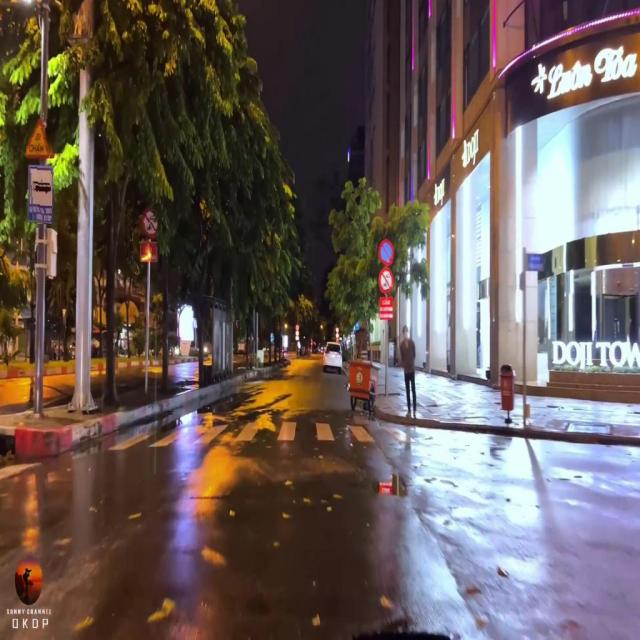cam_do_xe: (378, 237, 395, 266)
cam_xe_2_banh_va_xe_3_banh_co_dong_co: (140, 209, 158, 239), (378, 266, 394, 295)
di_cham: (26, 114, 55, 158)
khac: (28, 167, 52, 224)
